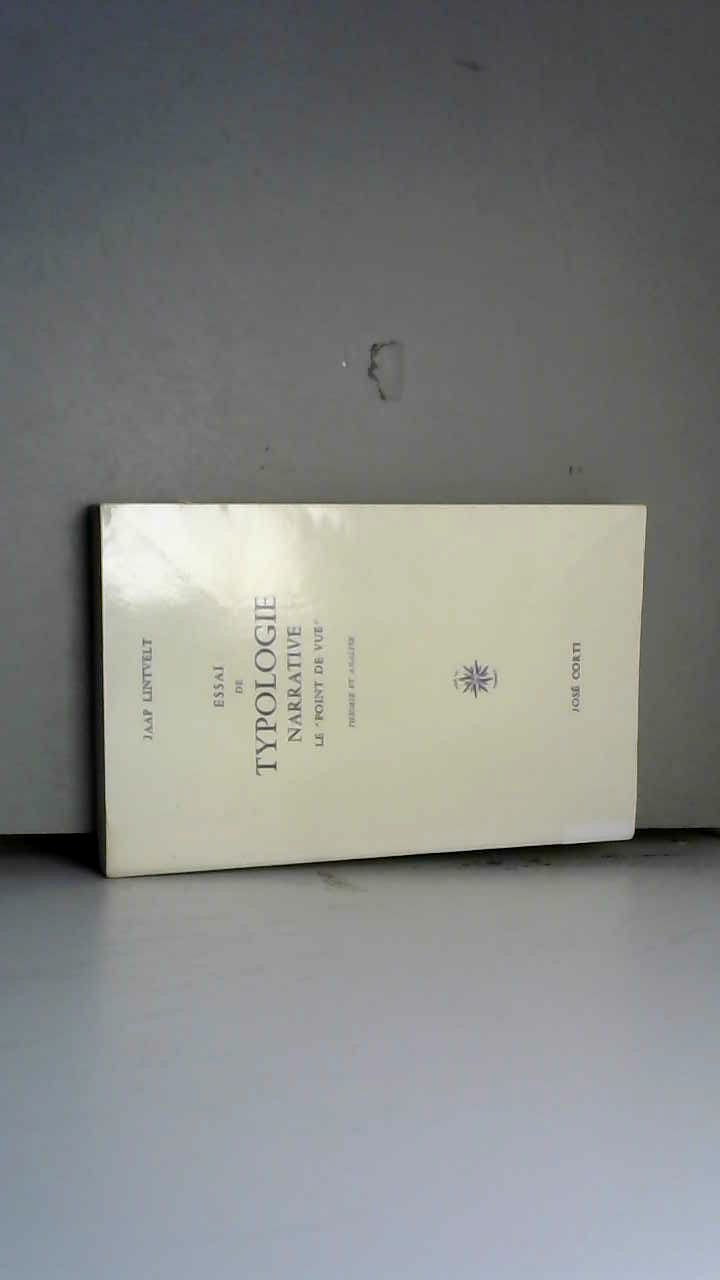book: (63, 480, 667, 904)
